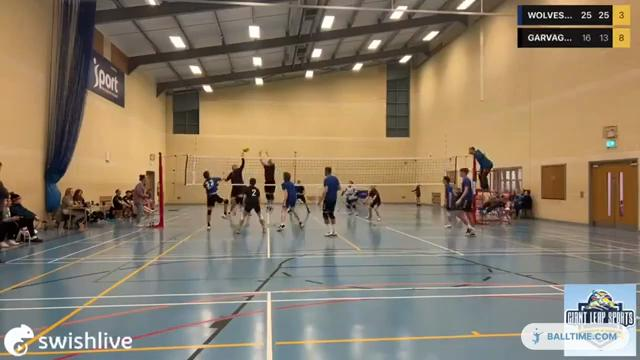attacco: (223, 156, 248, 213)
muro: (258, 149, 278, 217)
